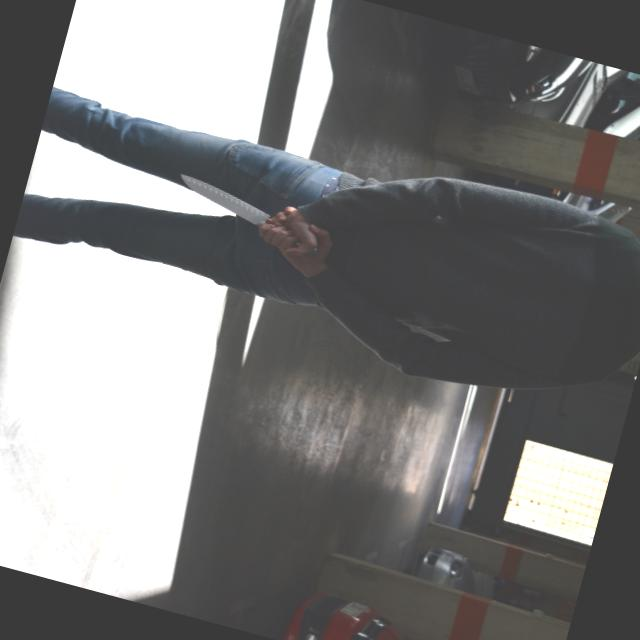knife: (164, 170, 330, 254)
